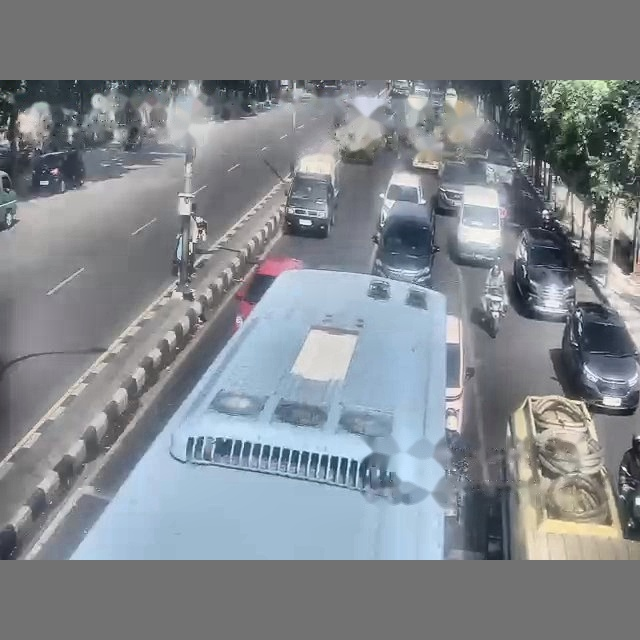Bis: (70, 269, 446, 559)
Mobil: (561, 302, 639, 412), (513, 228, 575, 316), (234, 256, 303, 331), (372, 210, 438, 286), (445, 314, 474, 445), (455, 185, 501, 262), (379, 171, 426, 225), (32, 149, 85, 193), (385, 201, 435, 235), (437, 161, 468, 212), (0, 171, 16, 228), (496, 182, 511, 221), (390, 80, 410, 97)
Motor: (618, 479, 639, 537), (483, 287, 505, 338)
Truk: (487, 395, 639, 559)
